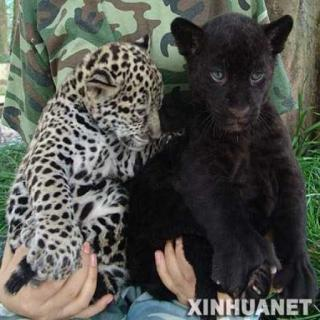Leopard: (14, 44, 195, 308)
